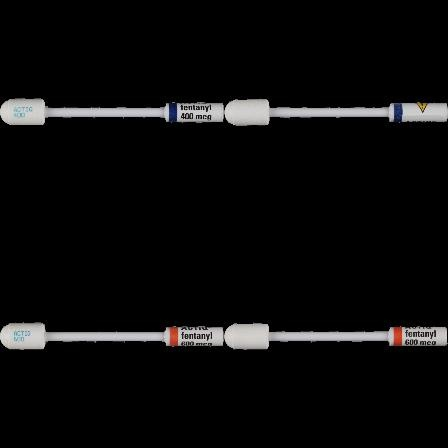63459-504: (0, 0, 224, 224)
